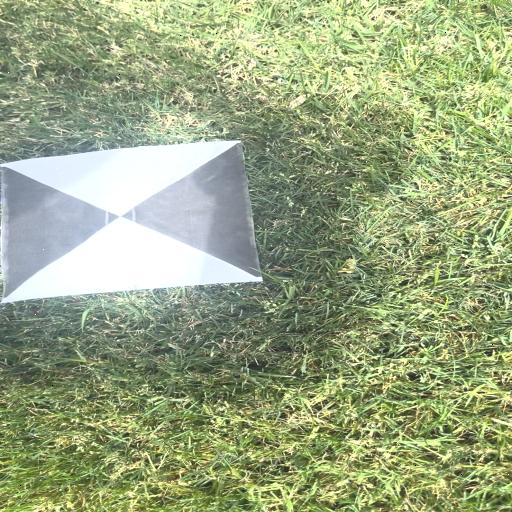target: (1, 141, 258, 303)
